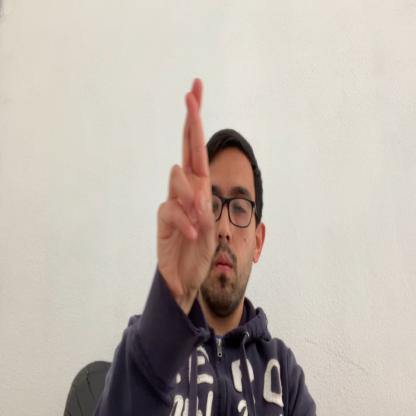R: (155, 74, 217, 302)
